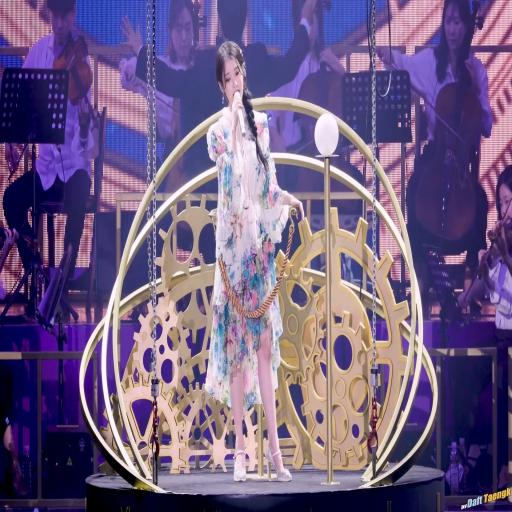IU: (215, 40, 247, 104)
